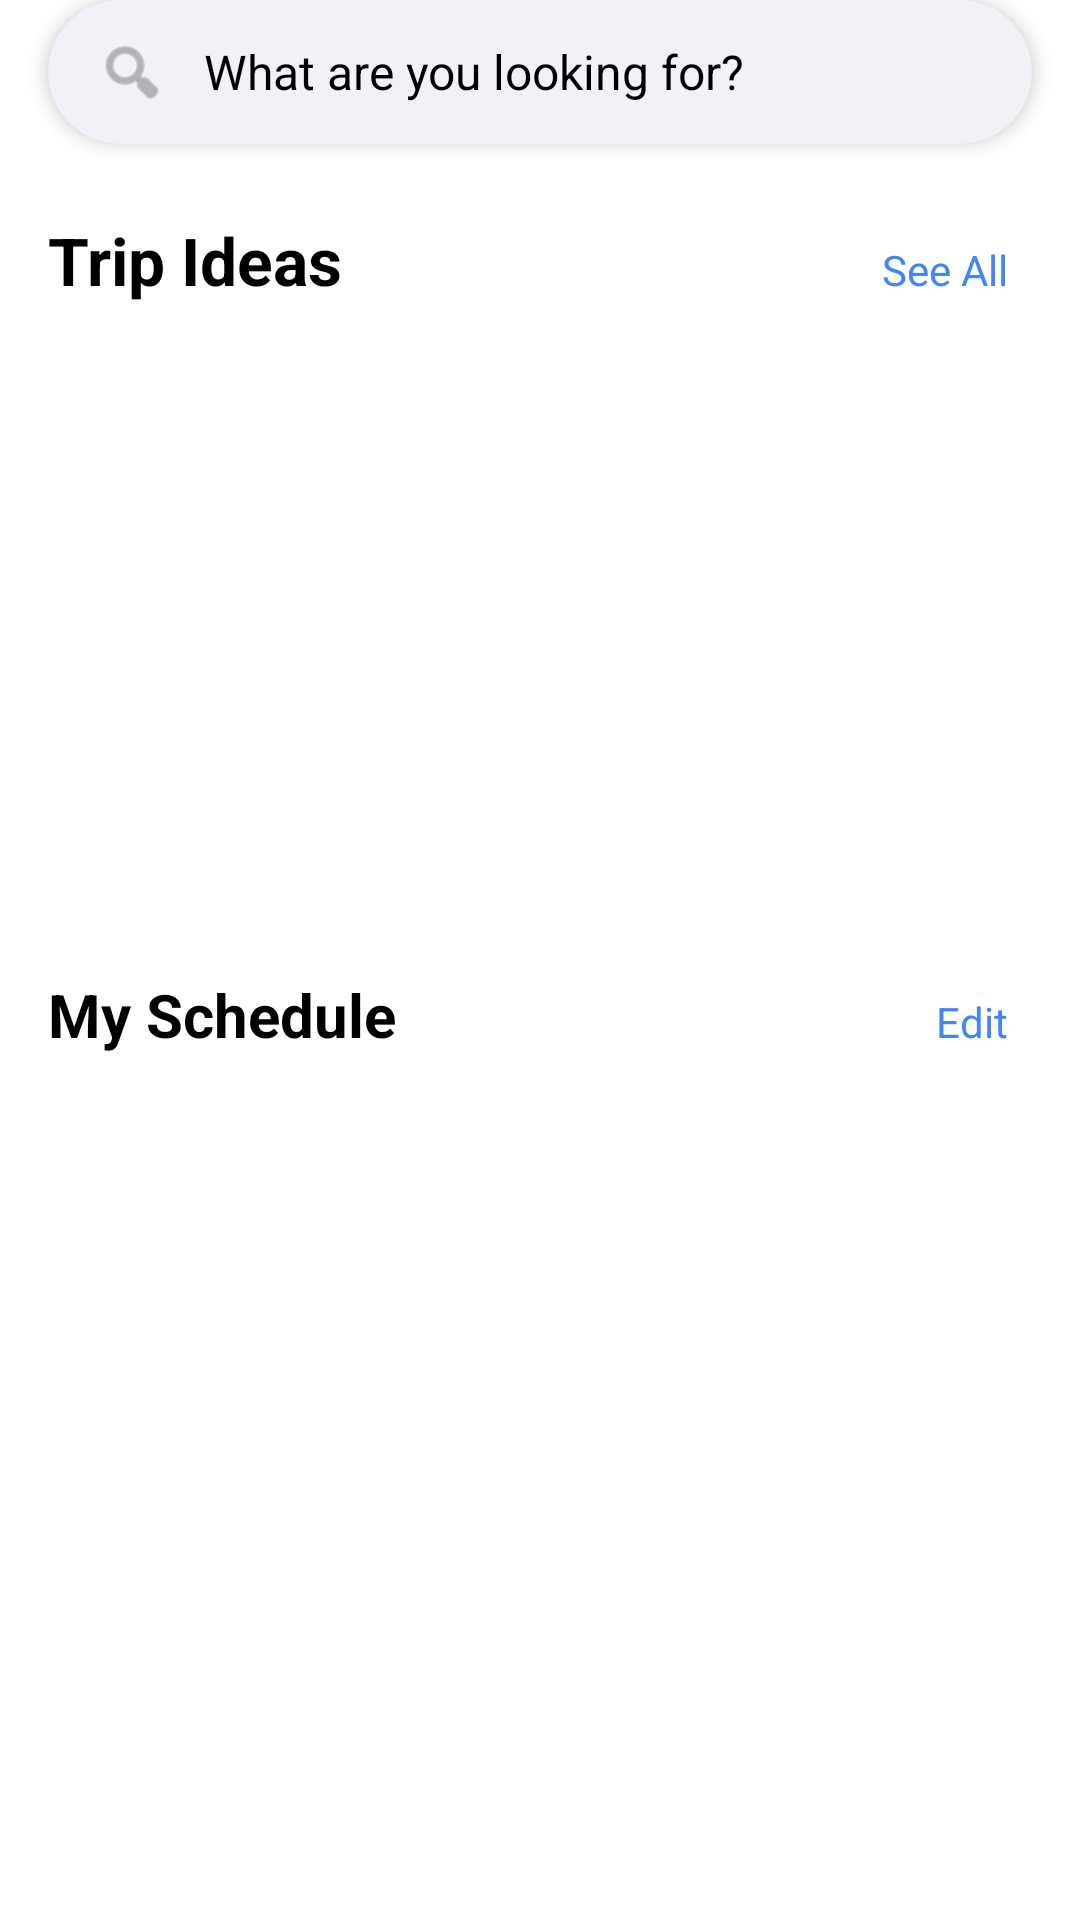

Icon bounding boxes for this 1080px×1920px phone screenshot, format region(x1, y1, x2, y2):
Search: region(106, 46, 158, 99)
